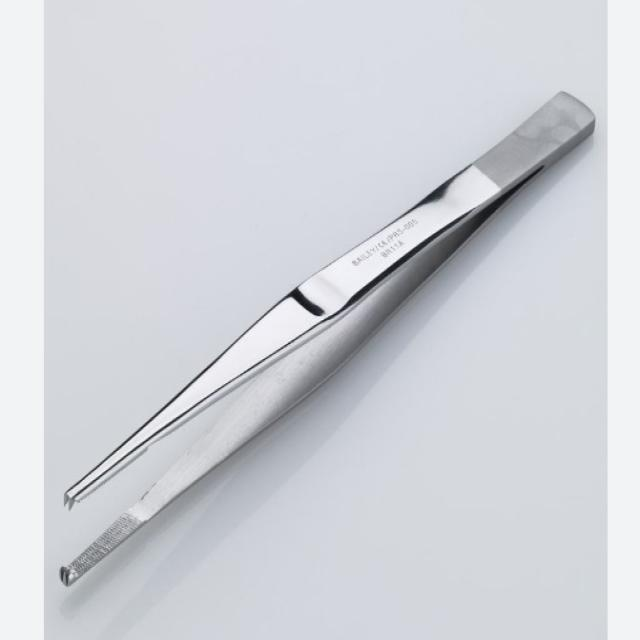Disscting Forceps -tooth-: (56, 88, 600, 588)
